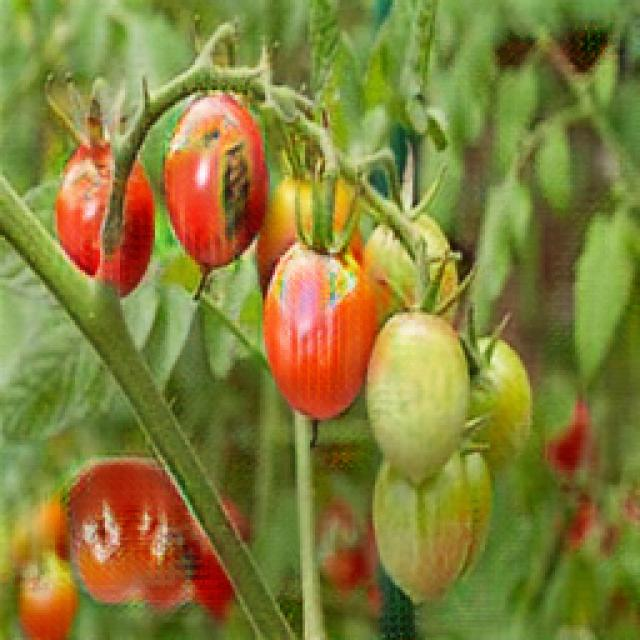overripe tomato: (256, 239, 373, 432), (62, 454, 198, 612), (164, 91, 264, 282), (57, 148, 153, 302)
